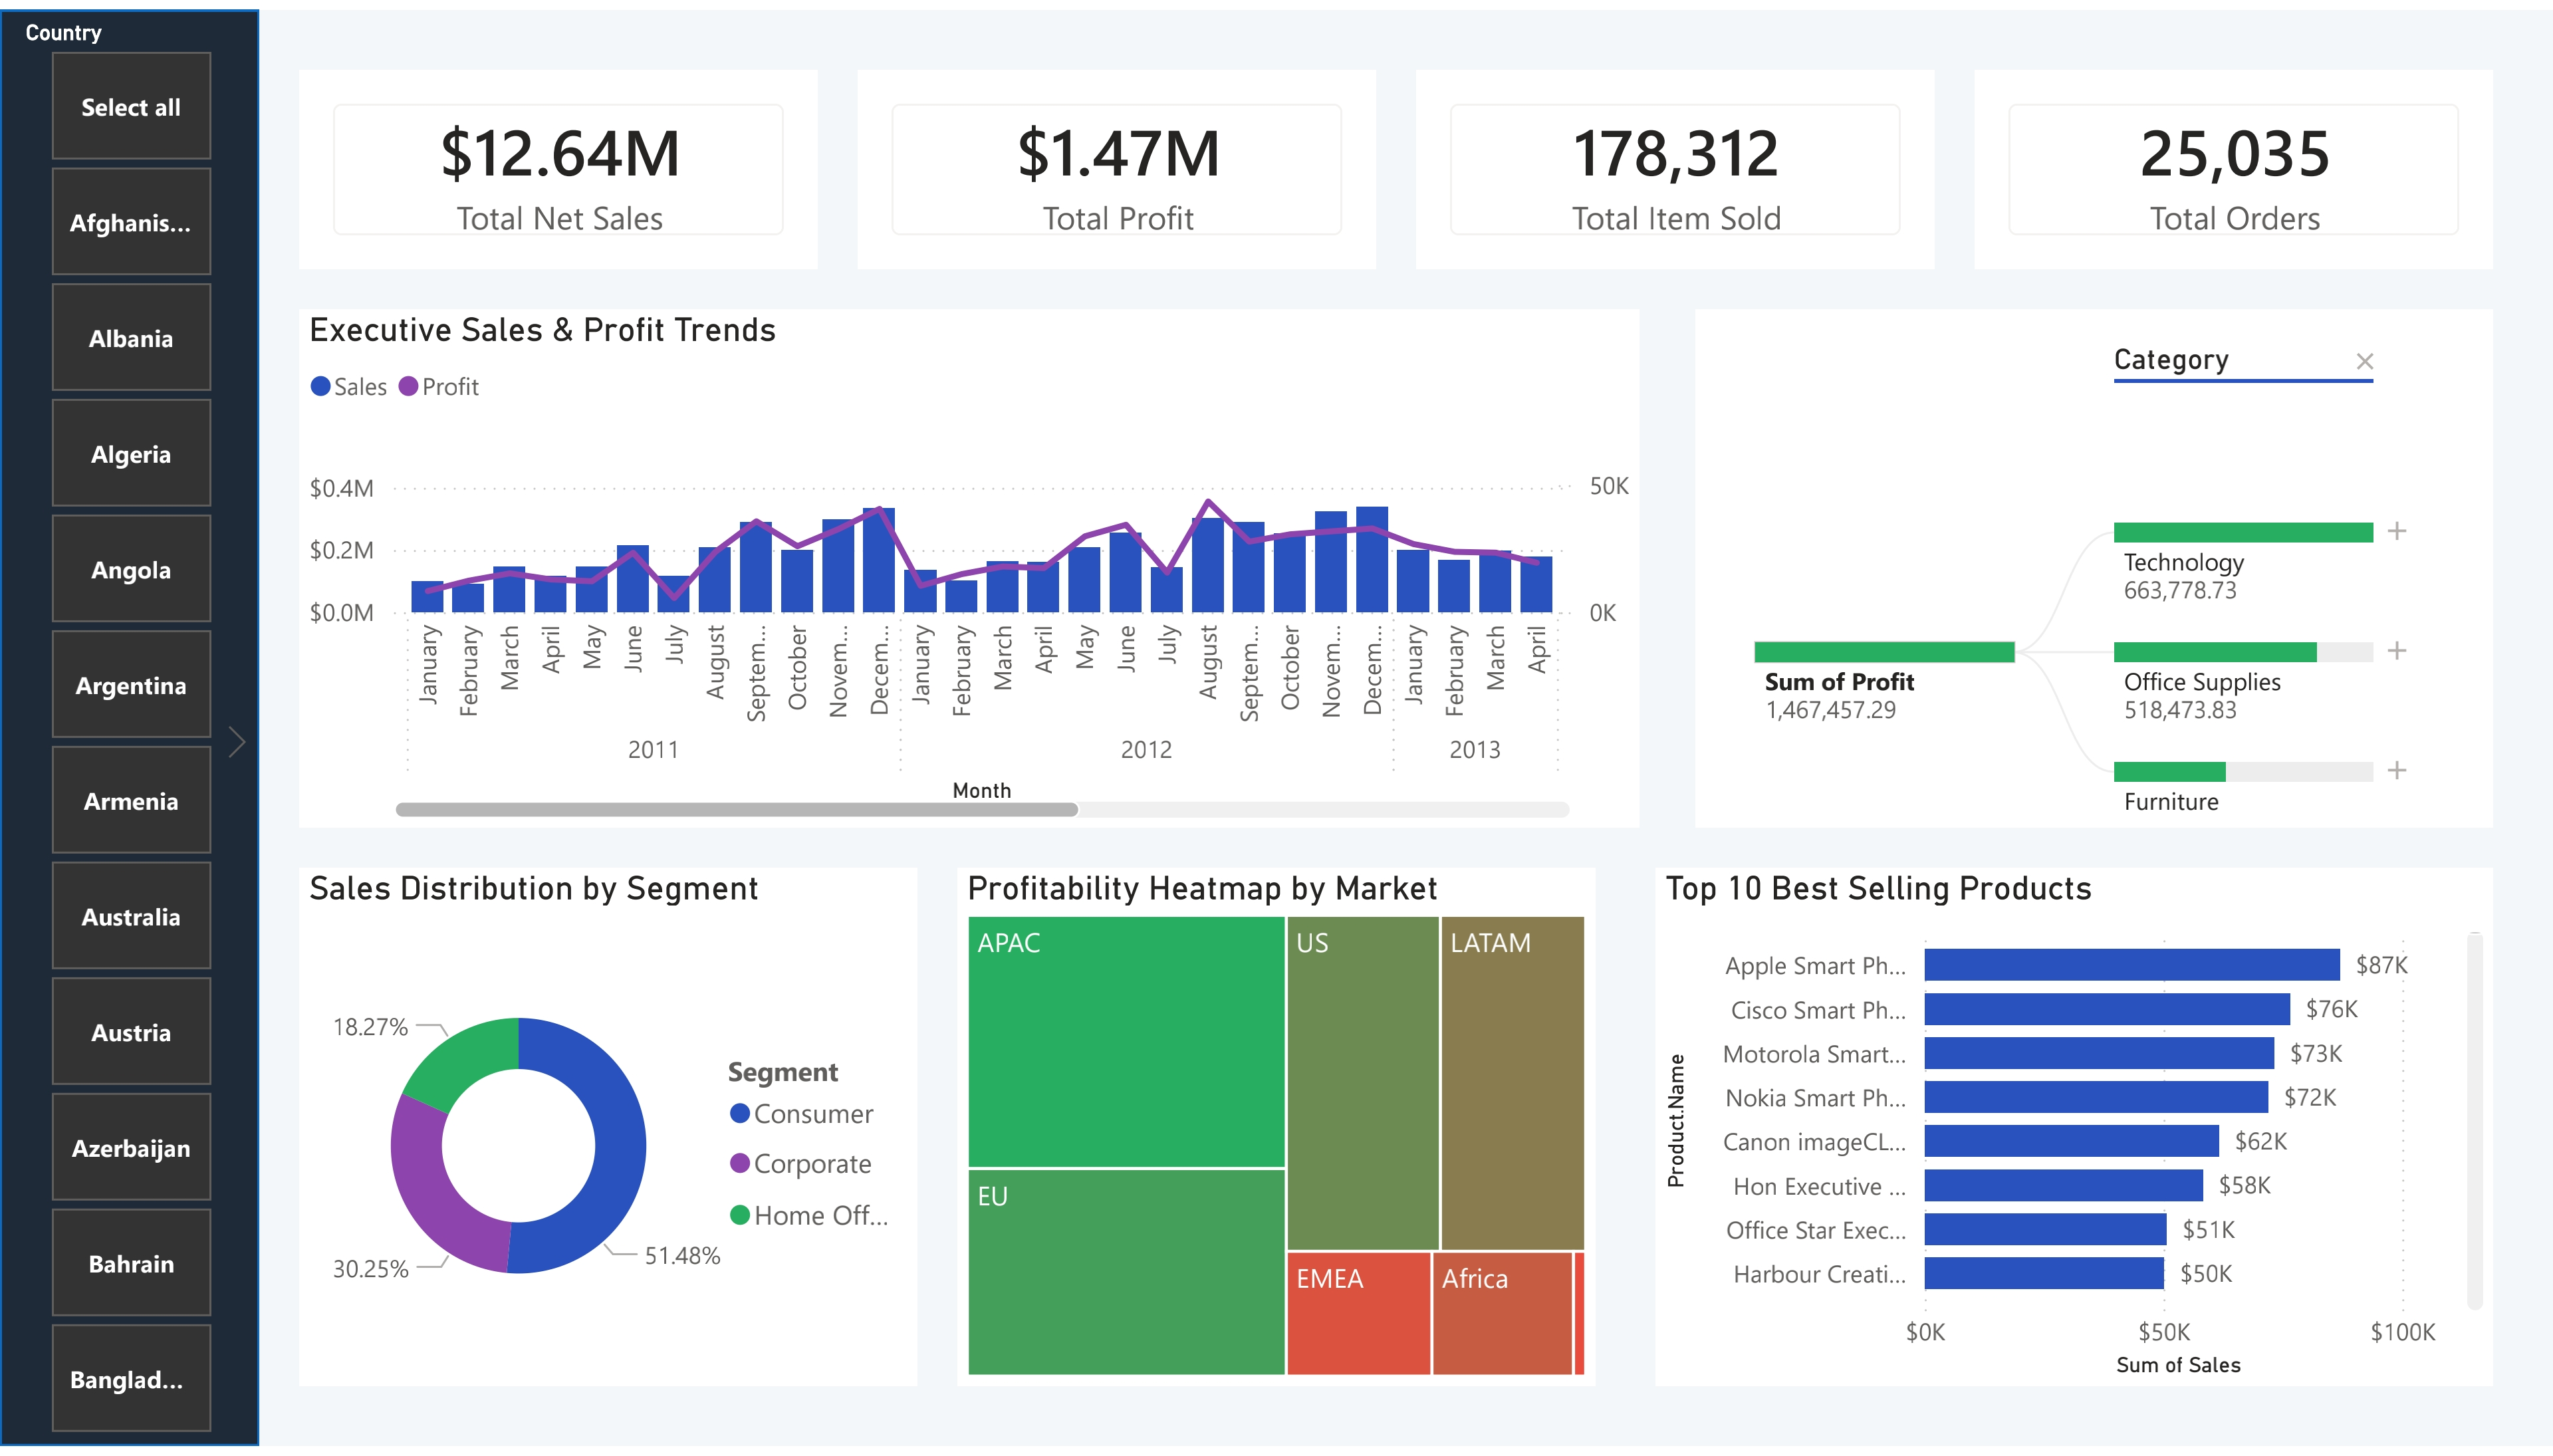

This screenshot's page, from the dashboard's own definition file:
{"tool":"powerbi","page":{"name":"Page 1","canvas":[1280,720],"ordinal":0},"visuals":[{"type":"shape","box":[0,0,130,720],"z":0},{"type":"cardVisual","fields":{"Data":["Sum(superstore.Sales)"]},"box":[150,30,260,100],"z":1000},{"type":"cardVisual","fields":{"Data":["Sum(superstore.Profit)"]},"box":[430,30,260,100],"z":2000},{"type":"cardVisual","fields":{"Data":["Sum(superstore.Quantity)"]},"box":[710,30,260,100],"z":3000},{"type":"cardVisual","fields":{"Data":["Count(superstore.Order.ID)"]},"box":[990,30,260,100],"z":4000},{"type":"lineClusteredColumnComboChart","title":"Executive Sales & Profit Trends","fields":{"Category":["superstore.Order.Date.Variation.Date Hierarchy.Year","superstore.Order.Date.Variation.Date Hierarchy.Month"],"Y":["Sum(superstore.Sales)"],"Y2":["Sum(superstore.Profit)"]},"box":[150,150,672,260],"z":4002},{"type":"decompositionTreeVisual","fields":{"Analyze":["Sum(superstore.Profit)"],"ExplainBy":["superstore.Category","superstore.Market","superstore.Region","superstore.Sub.Category"]},"box":[850,150,400,260],"z":4003},{"type":"treemap","title":"Profitability Heatmap by Market","fields":{"Values":["Sum(superstore.Sales)"],"Group":["superstore.Market"]},"box":[480,430,320,260],"z":4004},{"type":"clusteredBarChart","title":"Top 10 Best Selling Products","fields":{"Category":["superstore.Product.Name"],"Y":["Sum(superstore.Sales)"]},"box":[830,430,420,260],"z":4005},{"type":"slicer","fields":{"Values":["superstore.Country"]},"box":[0,0,130,720],"z":4006},{"type":"donutChart","title":"Sales Distribution by Segment","fields":{"Category":["superstore.Segment"],"Y":["Sum(superstore.Sales)"]},"box":[150,430,310,260],"z":4007}]}

Visuals, with their boxes in screenshot pixels (x1, y1, x2, y2), scaled from the page's 1280x720 canvas onto the 2553x1456 screenshot:
shape: [x1=0, y1=0, x2=259, y2=1455]
cardVisual - Sum(superstore.Sales): [x1=299, y1=61, x2=818, y2=263]
cardVisual - Sum(superstore.Profit): [x1=858, y1=61, x2=1376, y2=263]
cardVisual - Sum(superstore.Quantity): [x1=1416, y1=61, x2=1935, y2=263]
cardVisual - Count(superstore.Order.ID): [x1=1975, y1=61, x2=2493, y2=263]
"Executive Sales & Profit Trends" lineClusteredColumnComboChart: [x1=299, y1=303, x2=1640, y2=829]
decompositionTreeVisual - Sum(superstore.Profit) x superstore.Category: [x1=1695, y1=303, x2=2493, y2=829]
"Profitability Heatmap by Market" treemap: [x1=957, y1=870, x2=1596, y2=1395]
"Top 10 Best Selling Products" clusteredBarChart: [x1=1655, y1=870, x2=2493, y2=1395]
slicer - superstore.Country: [x1=0, y1=0, x2=259, y2=1455]
"Sales Distribution by Segment" donutChart: [x1=299, y1=870, x2=917, y2=1395]
